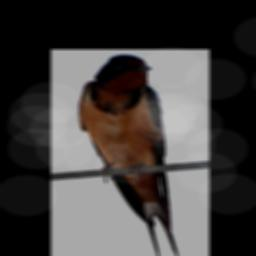Swallow: (77, 53, 180, 256)
